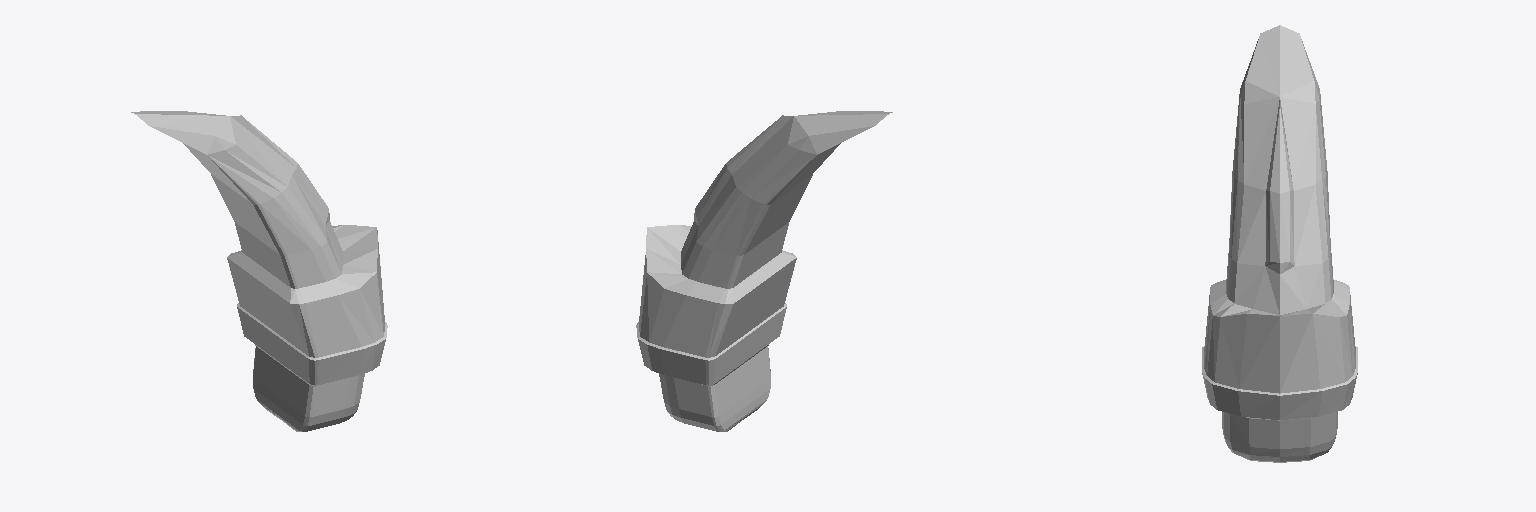
The model's file is character_knightArmLeft.obj.
The picture shows the model from 3 angles: view 1: azimuth 30°, elevation 25°; view 2: azimuth 150°, elevation 25°; view 3: azimuth 270°, elevation 25°; orthographic projection.
Visible parts, largest first — view 1: character_knightArmLeft_Cube.005; view 2: character_knightArmLeft_Cube.005; view 3: character_knightArmLeft_Cube.005.
Part boxes in pixels (bbox=[...]): character_knightArmLeft_Cube.005: bbox=[131, 111, 387, 431]; character_knightArmLeft_Cube.005: bbox=[636, 111, 892, 431]; character_knightArmLeft_Cube.005: bbox=[1202, 25, 1357, 462].
Bounding box in the file's own units: 0.4338 × 0.5868 × 0.2431.